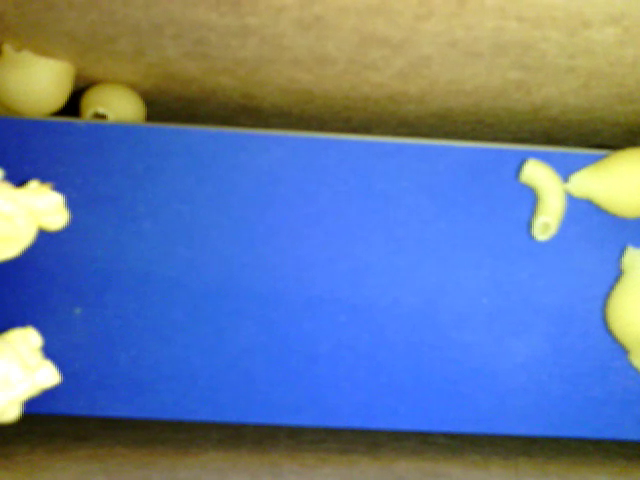elbow: (518, 158, 564, 240)
shell: (1, 43, 75, 115), (563, 147, 639, 217), (604, 244, 639, 370), (80, 82, 146, 122)
